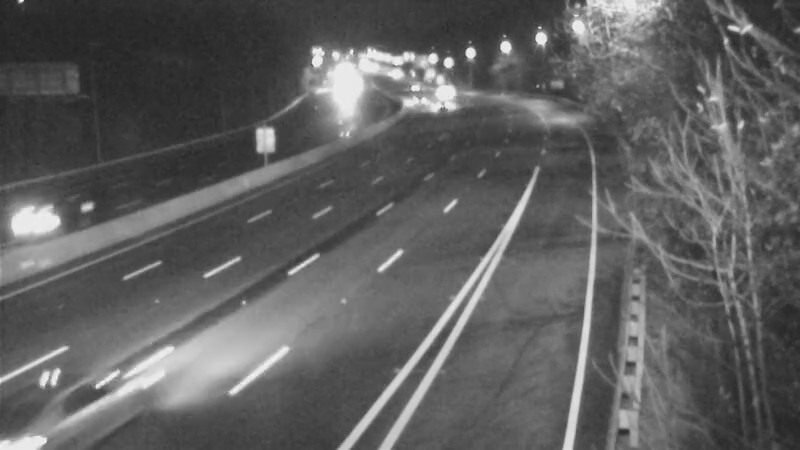vehicle: (1, 357, 98, 450), (1, 185, 78, 265), (423, 63, 473, 113), (392, 61, 442, 111), (380, 75, 430, 125), (420, 79, 470, 129)
